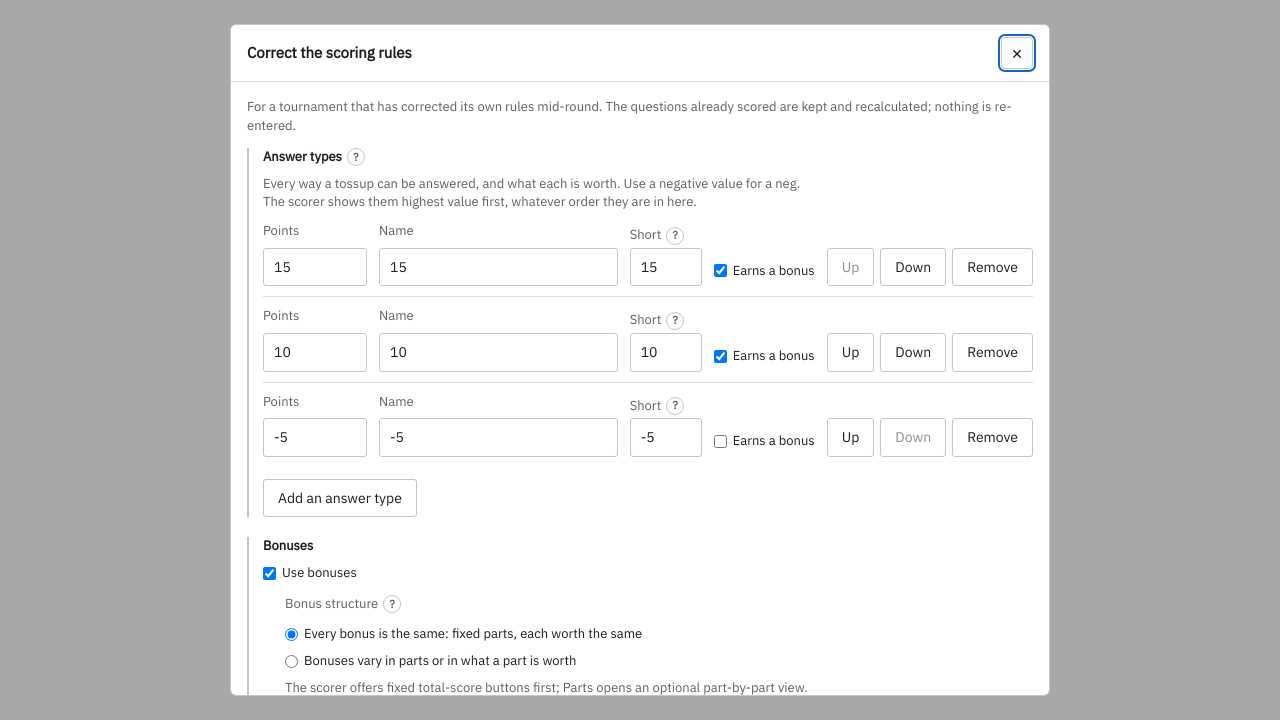
it: the confirmation step › says what will change, and that it moves points already recorded
Replace the text in the 1st number field labelled "Points" with "20" at coordinates (315, 267), box [263,248,367,286]
(page scrolled)
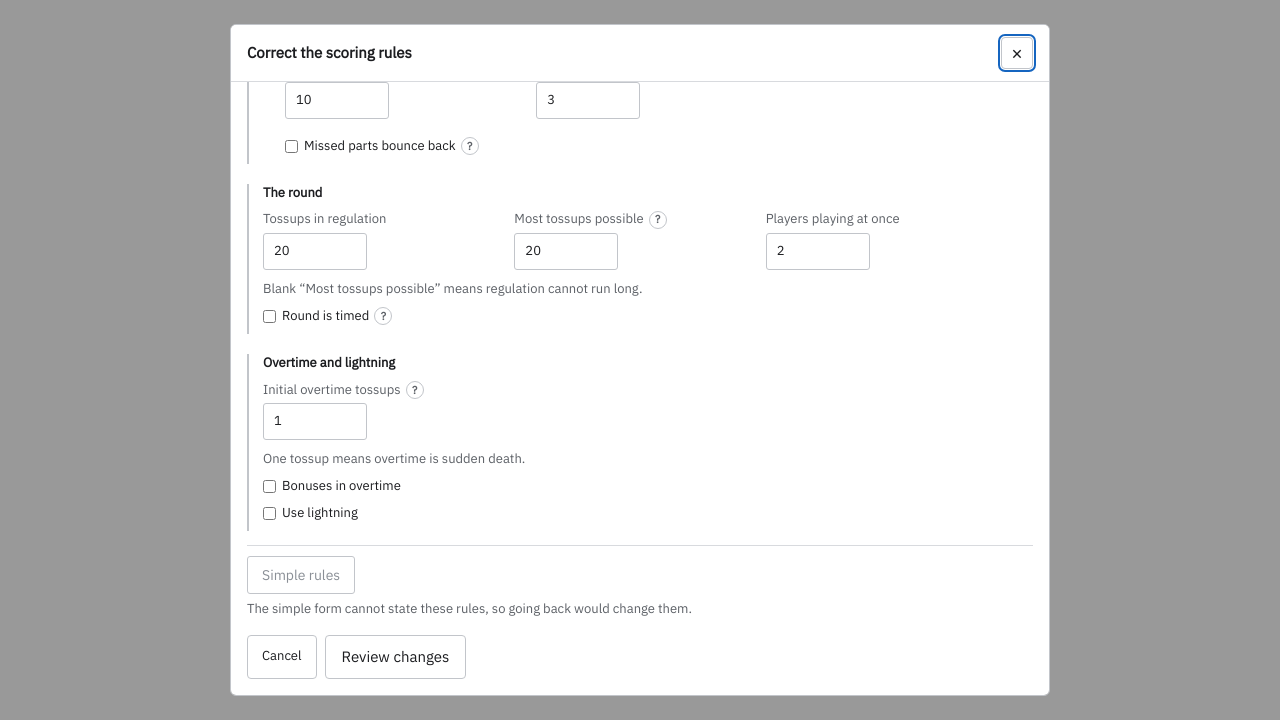
Now the button "Review changes" is enabled
Click the button "Review changes" at coordinates (395, 657), box [324,635,466,679]
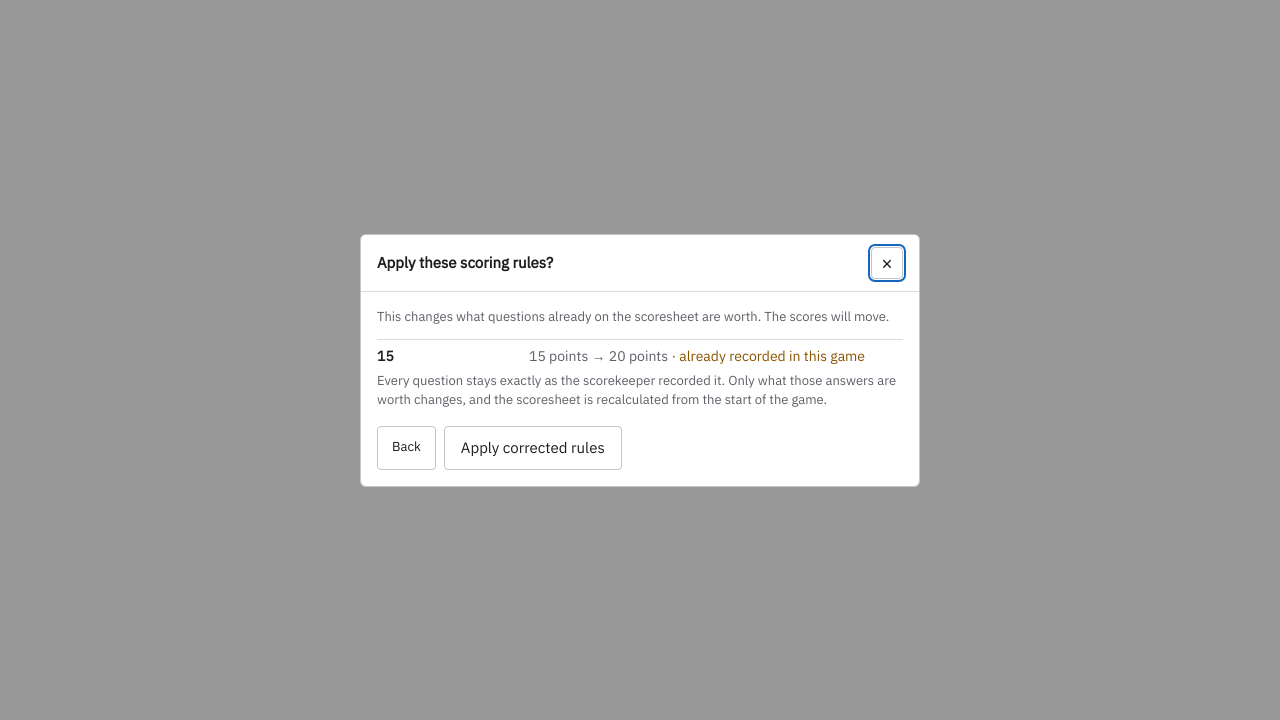
Now the text "the scores will move" is shown, box [377,308,889,325]
Now the text "15 points → 20 points · already recorded in this game" is shown, box [529,346,865,366]
Now the text "· already recorded in this game" is shown, box [668,346,865,364]
